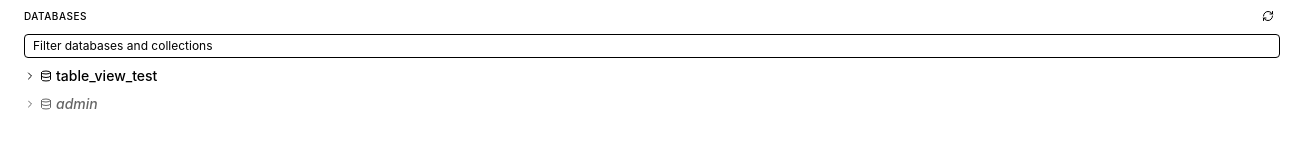
Test: DocumentDatabaseTree › keeps cached databases visible when refresh cannot reload metadata
Check: the list item with aria-label "table_view_test database" is shown, box 12,62 -> 1292,90
Step 1. Click the button named "Refresh databases" → point(1268, 16), box 1256,4 -> 1280,28
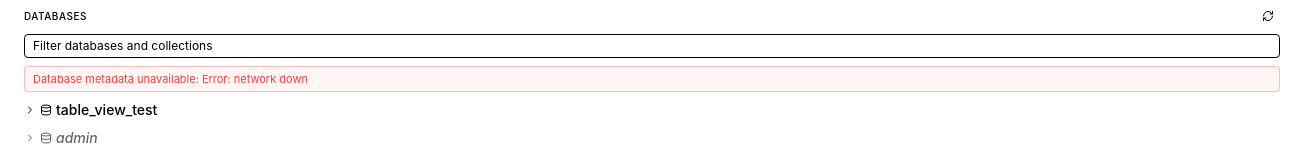
Check: the list item with aria-label "table_view_test database" is shown, box 12,96 -> 1292,124
Check: the message shows "Database metadata unavailable", box 33,72 -> 308,86
Check: the message shows "network down", box 33,72 -> 308,86
